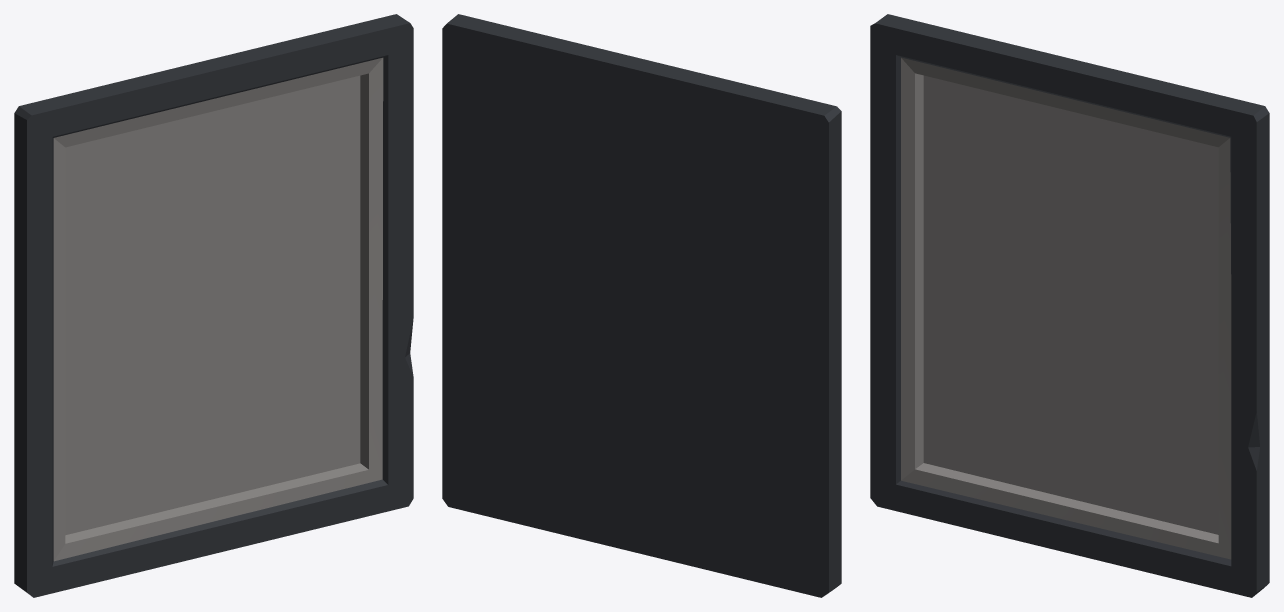
Rendered from SM_Prop_Art_Frame_02.obj.
3 renders of one model, left to right at view 1: azimuth 30°, elevation 25°; view 2: azimuth 150°, elevation 25°; view 3: azimuth 330°, elevation 25°, orthographic.
Parts seen in each view (by area): view 1: SM_Prop_Art_Frame_02_0; view 2: SM_Prop_Art_Frame_02_0; view 3: SM_Prop_Art_Frame_02_0.
Part boxes in pixels (box(x1,y1,x2,y2)): SM_Prop_Art_Frame_02_0: box(14, 14, 413, 597); SM_Prop_Art_Frame_02_0: box(442, 14, 841, 597); SM_Prop_Art_Frame_02_0: box(870, 14, 1269, 597).
Size of the model in its own units: 1.03 by 1.23 by 0.0588.
Materials: 1 (1 with a texture image).
